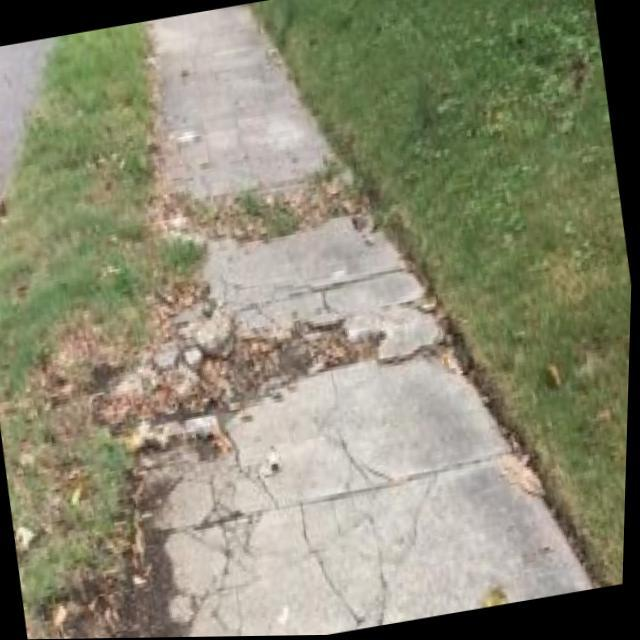hole: (106, 259, 393, 452), (54, 467, 197, 640)
